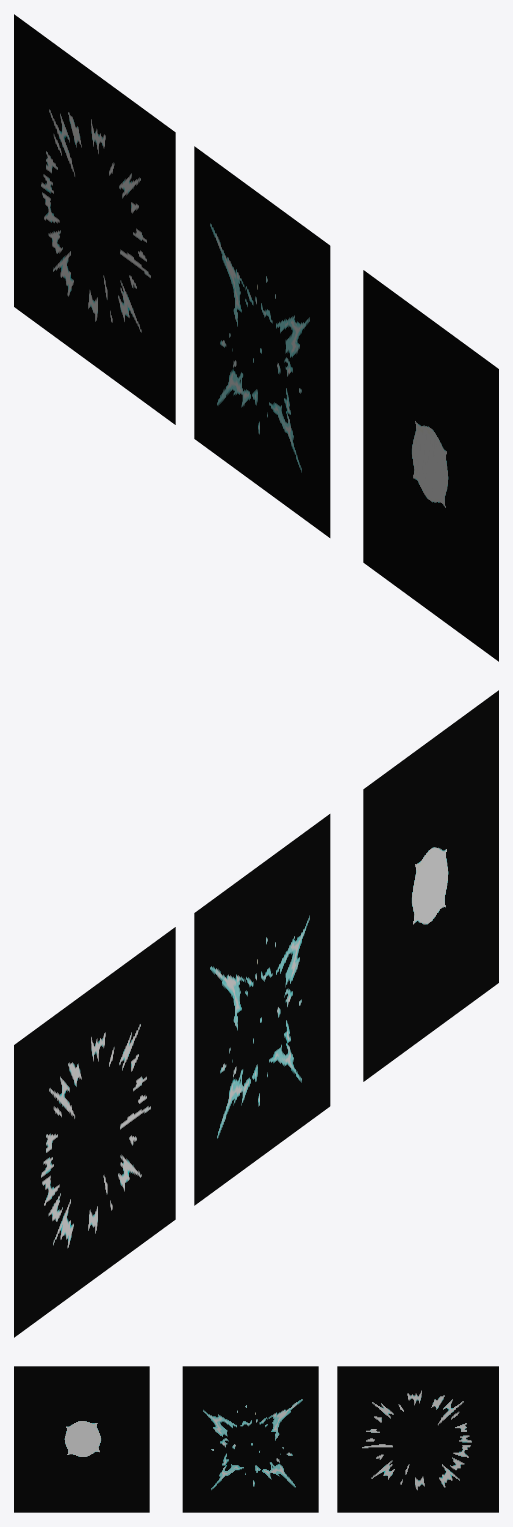
File: HitEffect.gltf
3 renders of one model, top to bottom at view 1: azimuth 30°, elevation 25°; view 2: azimuth 150°, elevation 25°; view 3: azimuth 270°, elevation 25°, orthographic. The views are drawn at different scales.
Parts seen in each view (by area): view 1: kick1, kick2, kick3; view 2: kick1, kick2, kick3; view 3: kick1, kick2, kick3.
Part boxes in pixels (box(x1,y1,x2,y2)): kick1: box(14, 14, 175, 424); kick2: box(194, 146, 330, 537); kick3: box(363, 270, 498, 661); kick1: box(14, 927, 175, 1337); kick2: box(194, 814, 330, 1205); kick3: box(363, 690, 498, 1081); kick1: box(337, 1366, 498, 1512); kick2: box(182, 1366, 318, 1512); kick3: box(14, 1366, 149, 1512).
Size of the model in its own units: 1.02e-06 by 3.02 by 9.06.
Materials: 3 (3 with a texture image).
